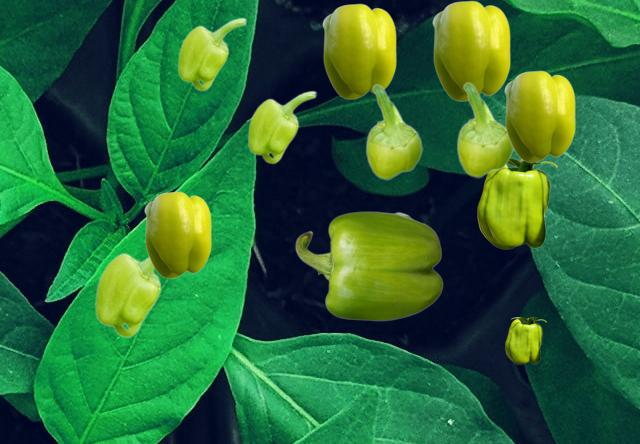bell_pepper: (295, 211, 442, 320), (432, 0, 509, 100), (477, 158, 556, 248), (322, 3, 395, 98), (504, 70, 574, 161), (94, 252, 163, 337), (144, 191, 210, 277), (365, 84, 422, 179), (456, 82, 513, 177), (177, 17, 246, 90), (247, 90, 316, 163), (505, 317, 545, 363)
